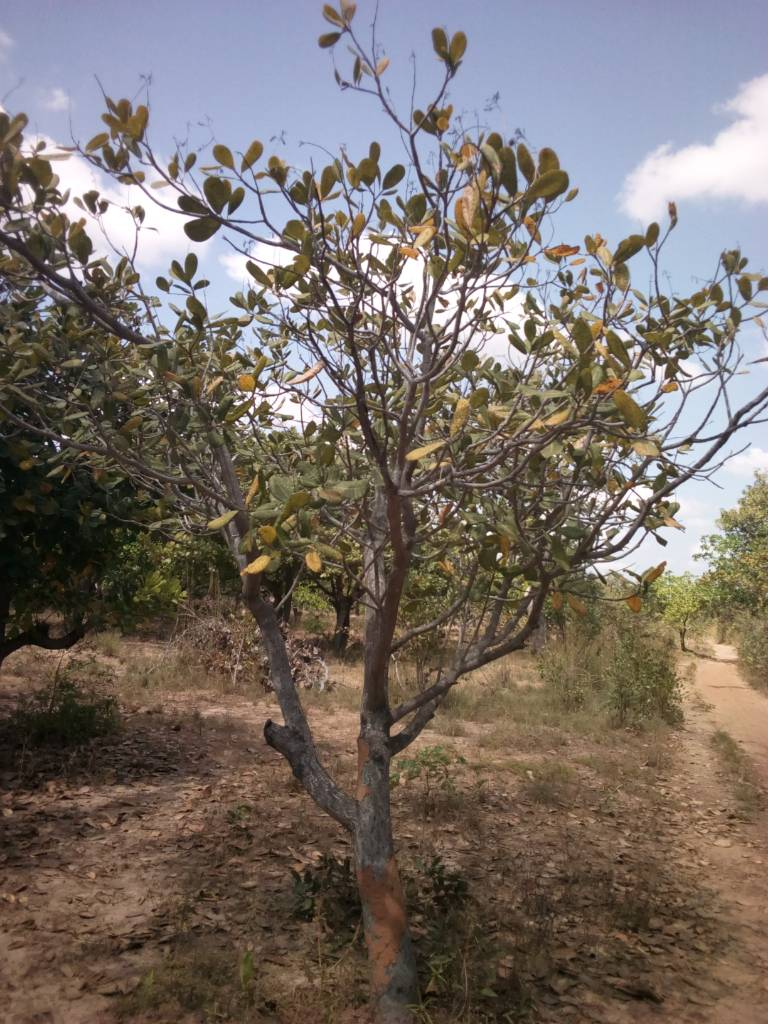Termites: (355, 849, 418, 1005), (350, 732, 388, 802)
